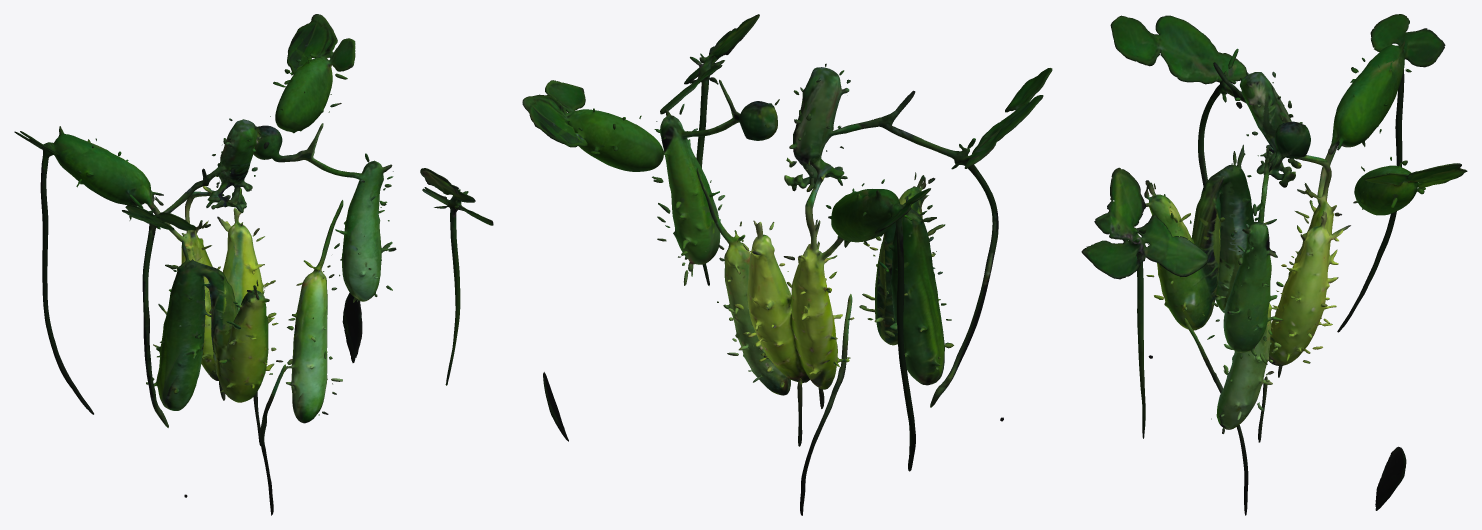
File: SHRUB0007.gltf
3 views of the same model, side by side, from view 1: azimuth 30°, elevation 25°; view 2: azimuth 150°, elevation 25°; view 3: azimuth 270°, elevation 25° (orthographic). The views are drawn at different scales.
Visible parts, largest first — view 1: Mesh_0.032; view 2: Mesh_0.032; view 3: Mesh_0.032.
Part boxes in pixels (x1,y1,x2,y2): Mesh_0.032: [14, 14, 493, 515]; Mesh_0.032: [522, 14, 1052, 515]; Mesh_0.032: [1081, 14, 1467, 515].
Size of the model in its own units: 1.81 by 2.03 by 1.65.
Materials: 1 (1 with a texture image).
